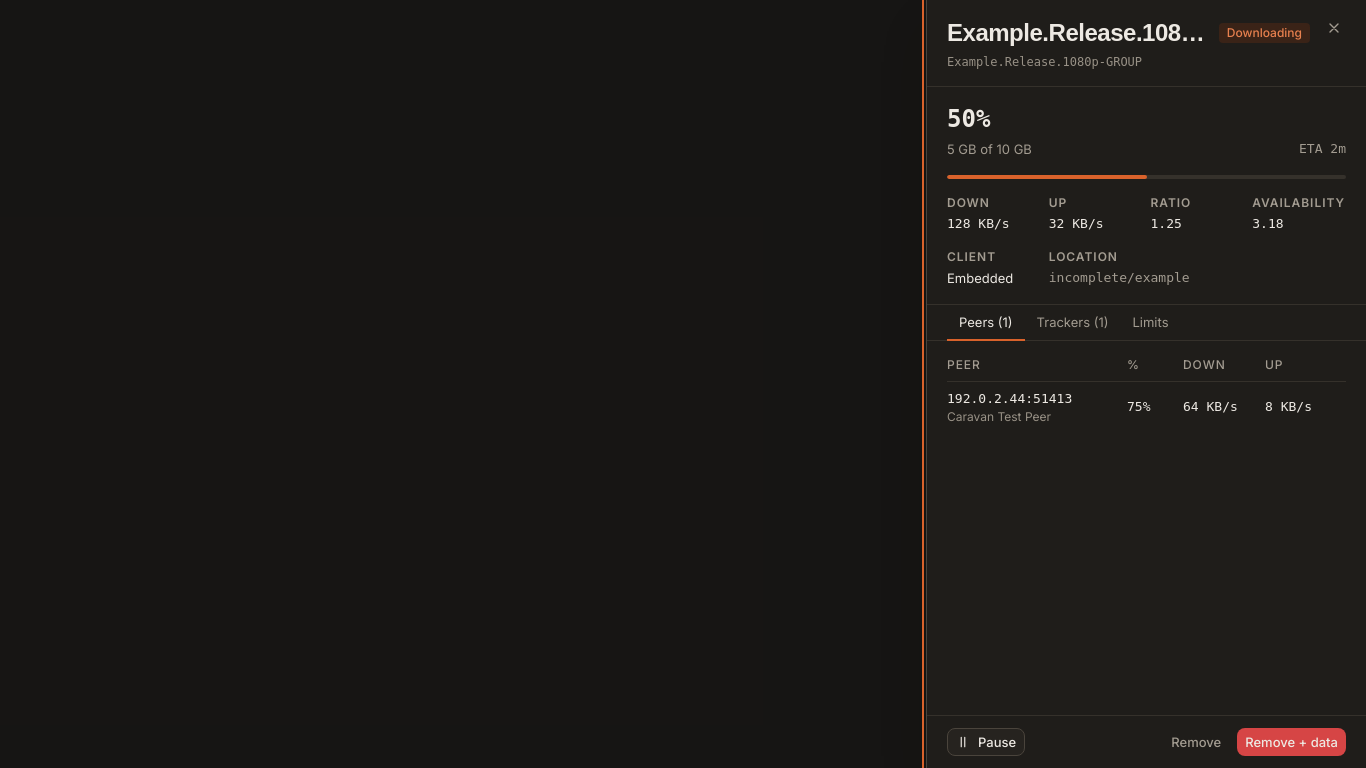
Test: QueueDetailDrawer › opens with mapped peer, tracker and availability insight
Click the tab "Trackers (1)": coordinates (1073, 323) x1=1025 y1=305 x2=1120 y2=342
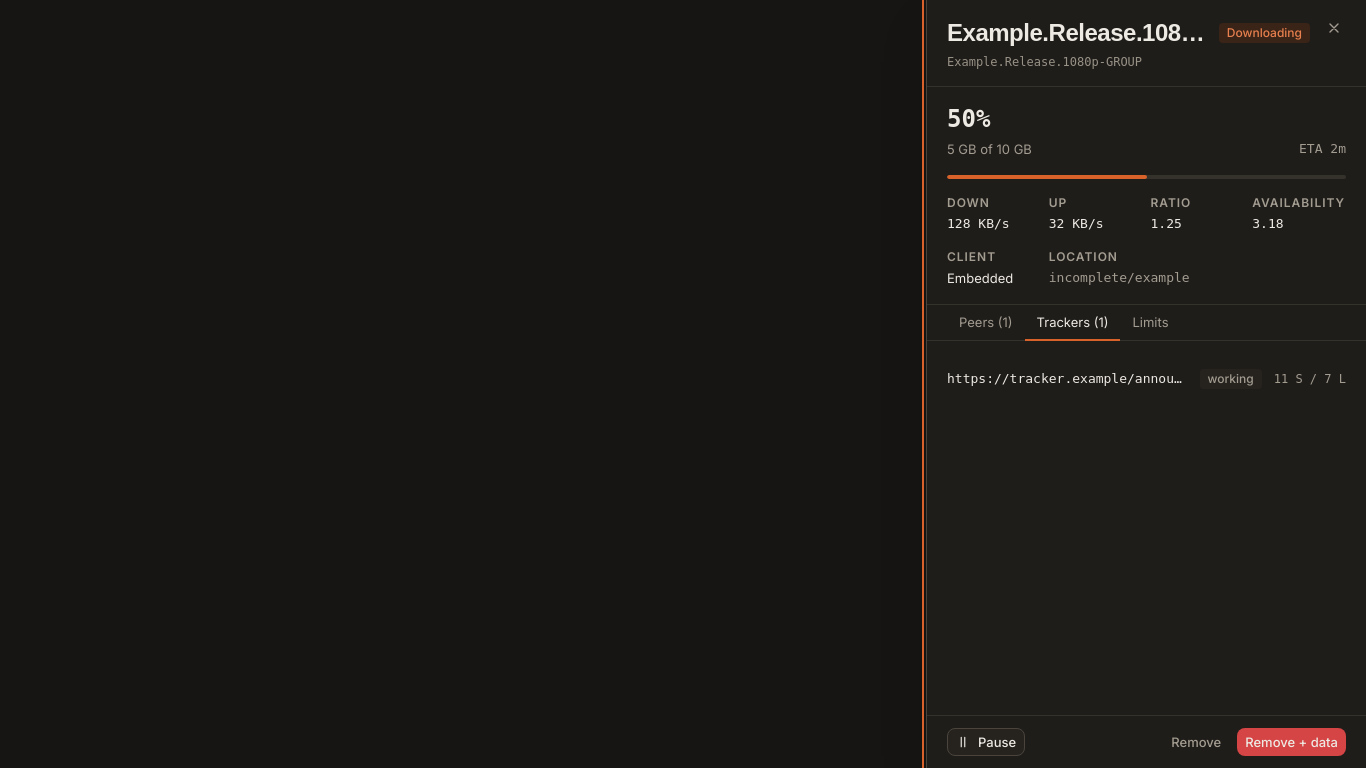
Check: the text "https://tracker.example/announce" is shown, box x1=947 y1=370 x2=1188 y2=389
Check: the text "11 S / 7 L" is shown, box x1=1274 y1=371 x2=1346 y2=387
